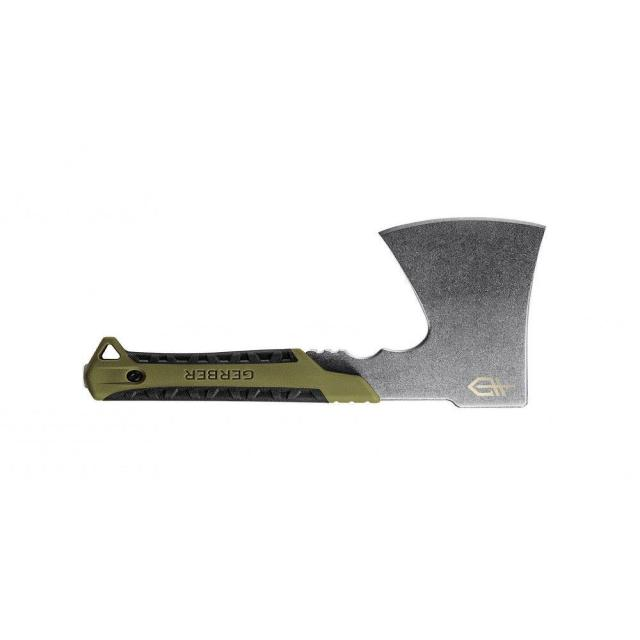Kapak: (92, 228, 576, 430)
